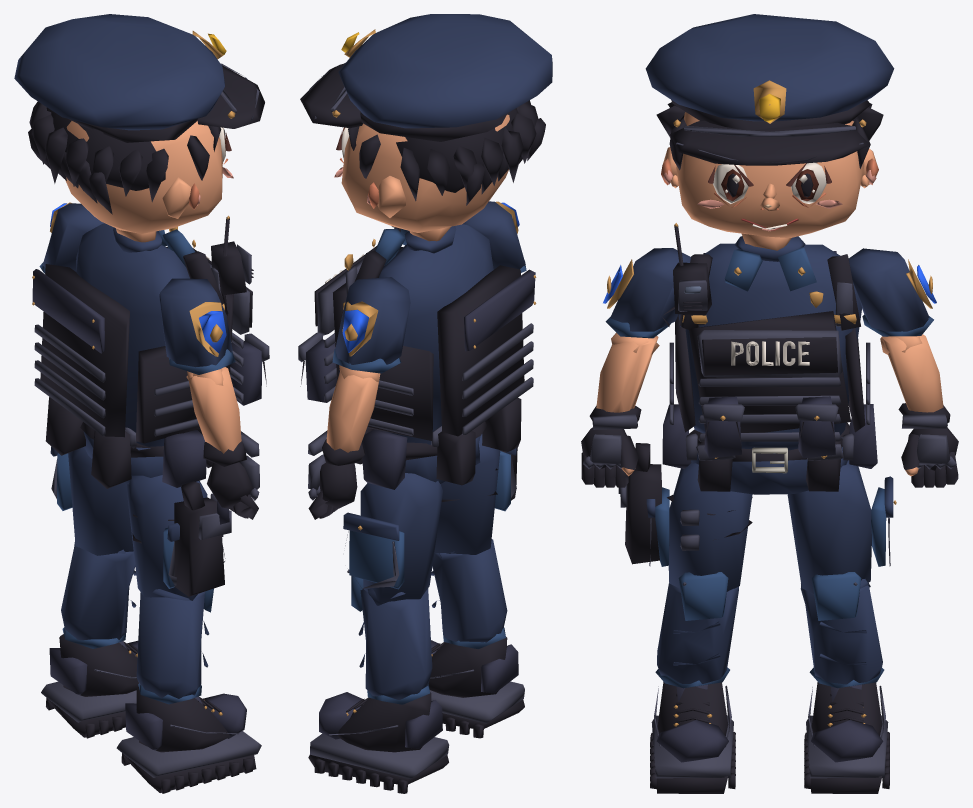
File: npc.police-officer.lod1.glb
The picture shows the model from 3 angles, left to right: view 1: azimuth 30°, elevation 25°; view 2: azimuth 150°, elevation 25°; view 3: azimuth 270°, elevation 25°; orthographic projection.
Parts seen in each view (by area): view 1: head, torso, footR, legR, footL, shinR, hip, shinL, armR, legL, handR, foreArmR (+1 smaller); view 2: head, torso, footL, legL, shinL, footR, hip, shinR, armL, legR, foreArmL, handL (+1 smaller); view 3: head, torso, legR, hip, legL, footL, footR, shinR, shinL, armL, armR, handR (+3 smaller).
Boxes of the visible parts, bbox=[...] form: head: bbox=[14, 14, 264, 242]; torso: bbox=[32, 215, 269, 446]; footR: bbox=[116, 687, 261, 793]; legR: bbox=[126, 475, 231, 600]; footL: bbox=[41, 634, 138, 738]; shinR: bbox=[136, 588, 213, 704]; hip: bbox=[45, 397, 212, 488]; shinL: bbox=[61, 541, 136, 648]; armR: bbox=[159, 278, 235, 374]; legL: bbox=[50, 446, 133, 555]; handR: bbox=[203, 431, 259, 519]; foreArmR: bbox=[186, 367, 241, 453]; head: bbox=[300, 14, 552, 241]; torso: bbox=[298, 224, 536, 444]; footL: bbox=[308, 692, 449, 793]; legL: bbox=[343, 473, 442, 602]; shinL: bbox=[347, 569, 432, 704]; footR: bbox=[428, 637, 524, 738]; hip: bbox=[356, 398, 521, 489]; shinR: bbox=[431, 539, 507, 649]; armL: bbox=[332, 277, 410, 373]; legR: bbox=[434, 434, 517, 554]; foreArmL: bbox=[326, 365, 380, 452]; handL: bbox=[308, 430, 365, 519]; head: bbox=[645, 14, 894, 250]; torso: bbox=[662, 223, 870, 458]; legR: bbox=[618, 443, 752, 591]; hip: bbox=[662, 404, 877, 494]; legL: bbox=[787, 460, 896, 593]; footL: bbox=[804, 682, 889, 793]; footR: bbox=[650, 682, 735, 793]; shinR: bbox=[655, 572, 738, 688]; shinL: bbox=[800, 572, 884, 688]; armL: bbox=[848, 248, 936, 336]; armR: bbox=[603, 248, 690, 338]; handR: bbox=[581, 405, 641, 487].
Bounding box in the file's own units: 0.5797 × 1.8 × 0.8587.
